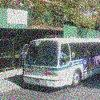buses: (14, 36, 99, 90)
